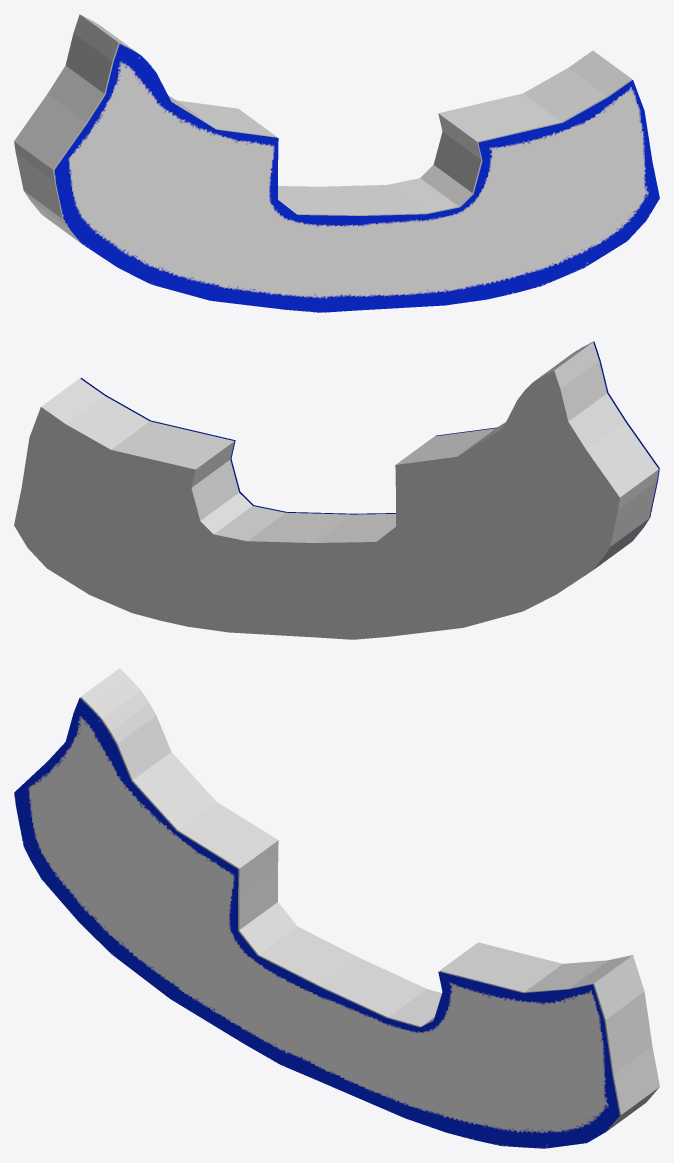
3 renders of one model, top to bottom at view 1: azimuth 30°, elevation 25°; view 2: azimuth 150°, elevation 25°; view 3: azimuth 330°, elevation 25°, orthographic.
Parts seen in each view (by area): view 1: In_6_1, In_6_0; view 2: In_6_0, In_6_1; view 3: In_6_1, In_6_0.
Boxes of the visible parts, x1,y1,x2,y2 form: In_6_1: (54, 44, 659, 312); In_6_0: (14, 14, 631, 242); In_6_0: (14, 342, 658, 639); In_6_1: (80, 341, 659, 541); In_6_1: (14, 698, 619, 1148); In_6_0: (80, 668, 659, 1130).
Size of the model in its own units: 4.5 by 2.46 by 0.515.
2 materials, 1 textured.
